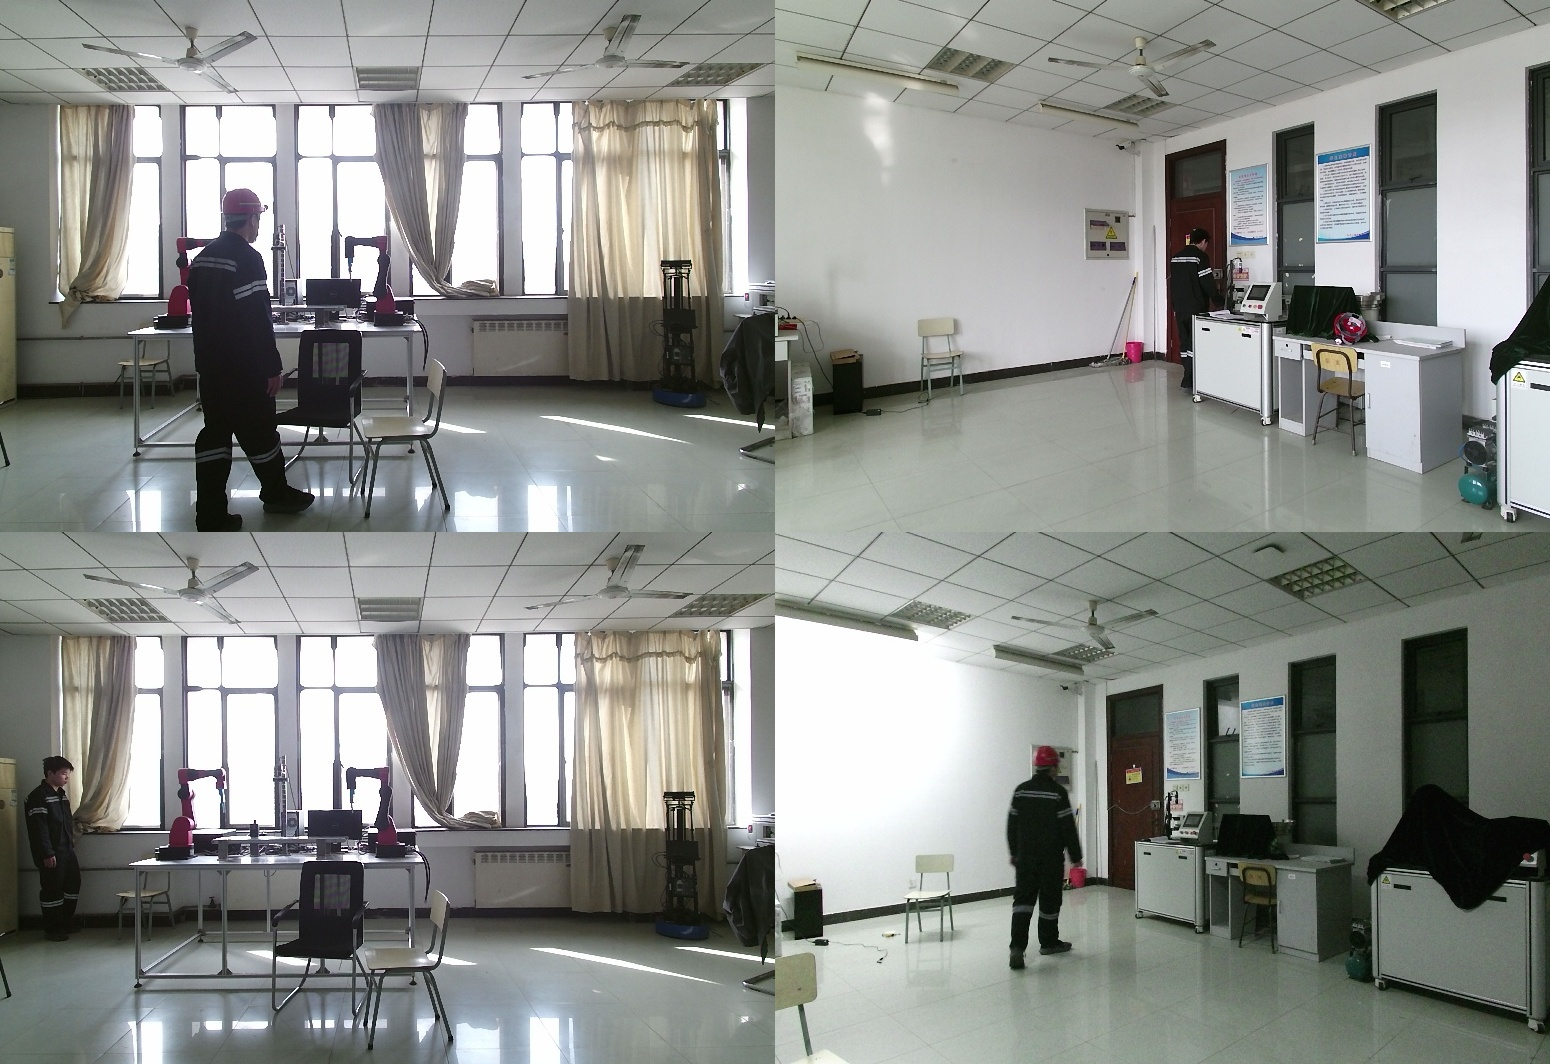person: (182, 187, 312, 532), (997, 746, 1075, 975), (18, 756, 81, 943), (1170, 232, 1228, 401)
